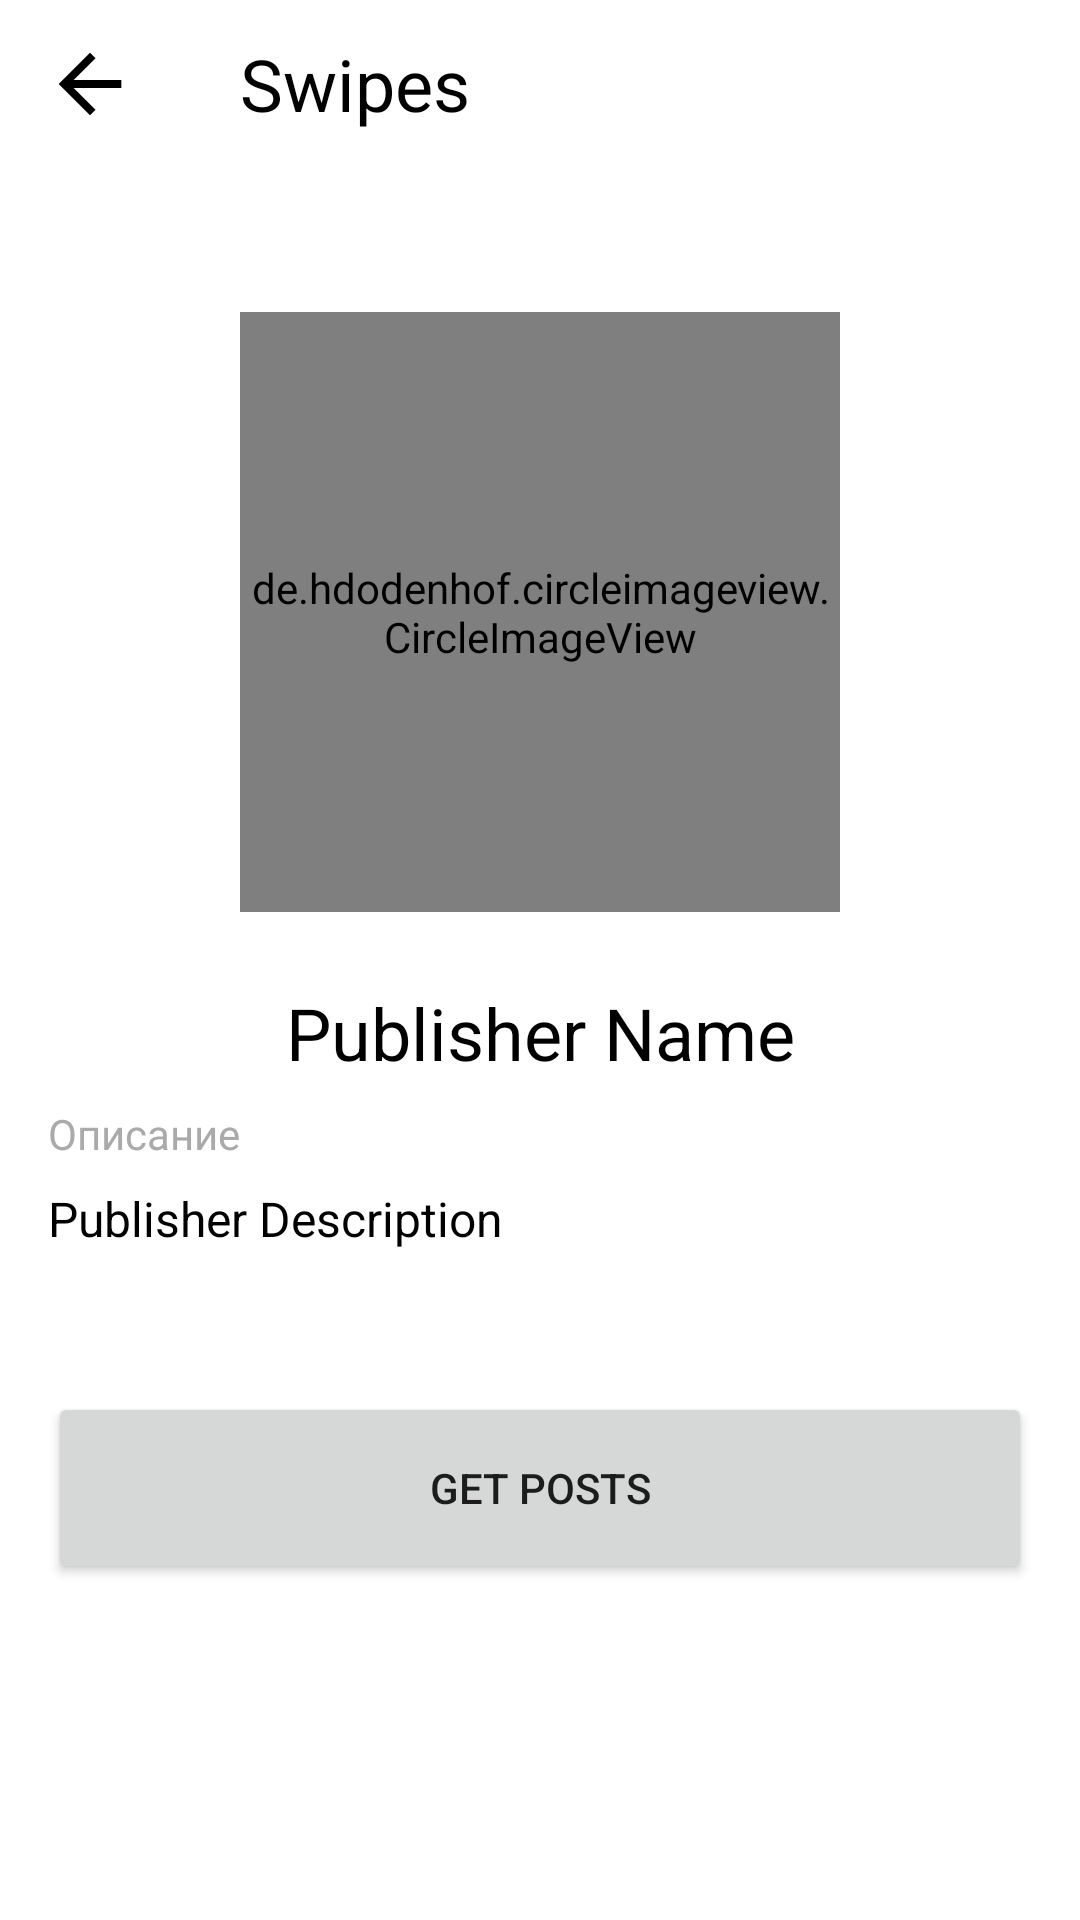

Screen size 1080×1920. Icon name, then its box in pixels as bbox=(x1, y1, x2, y2):
arrow back: bbox=(59, 53, 122, 115)
